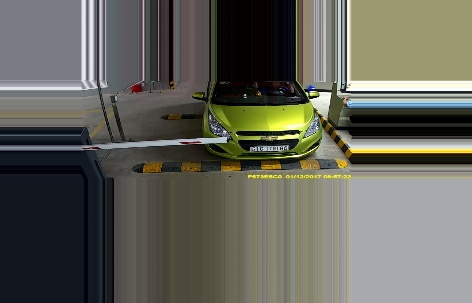plate: (248, 142, 288, 154)
